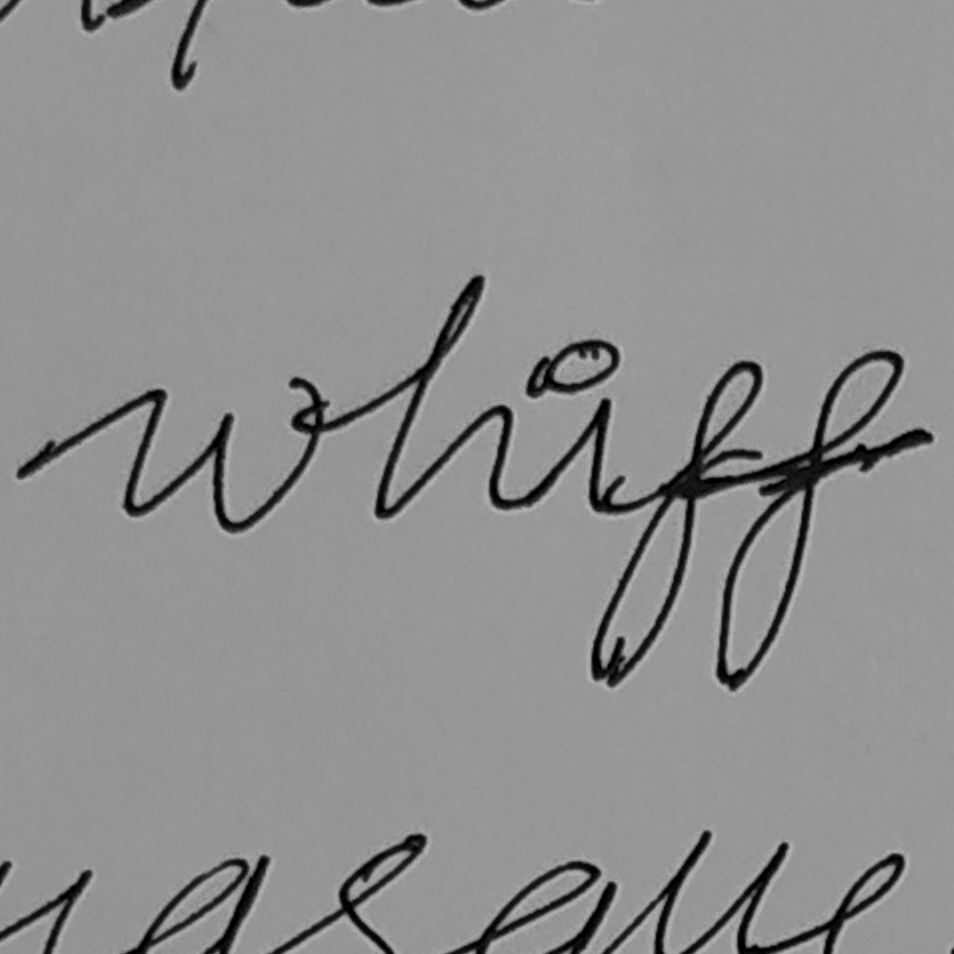f: (711, 344, 908, 691), (586, 356, 767, 691)
h: (370, 272, 517, 524)
i: (524, 335, 628, 516)
w: (117, 373, 330, 536)
